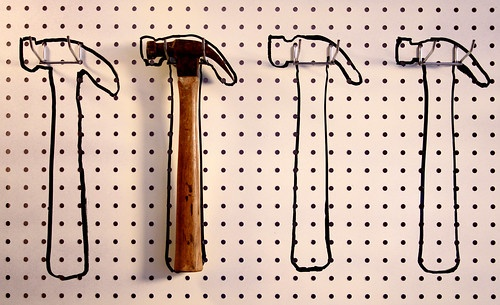hammer: (143, 36, 237, 274)
